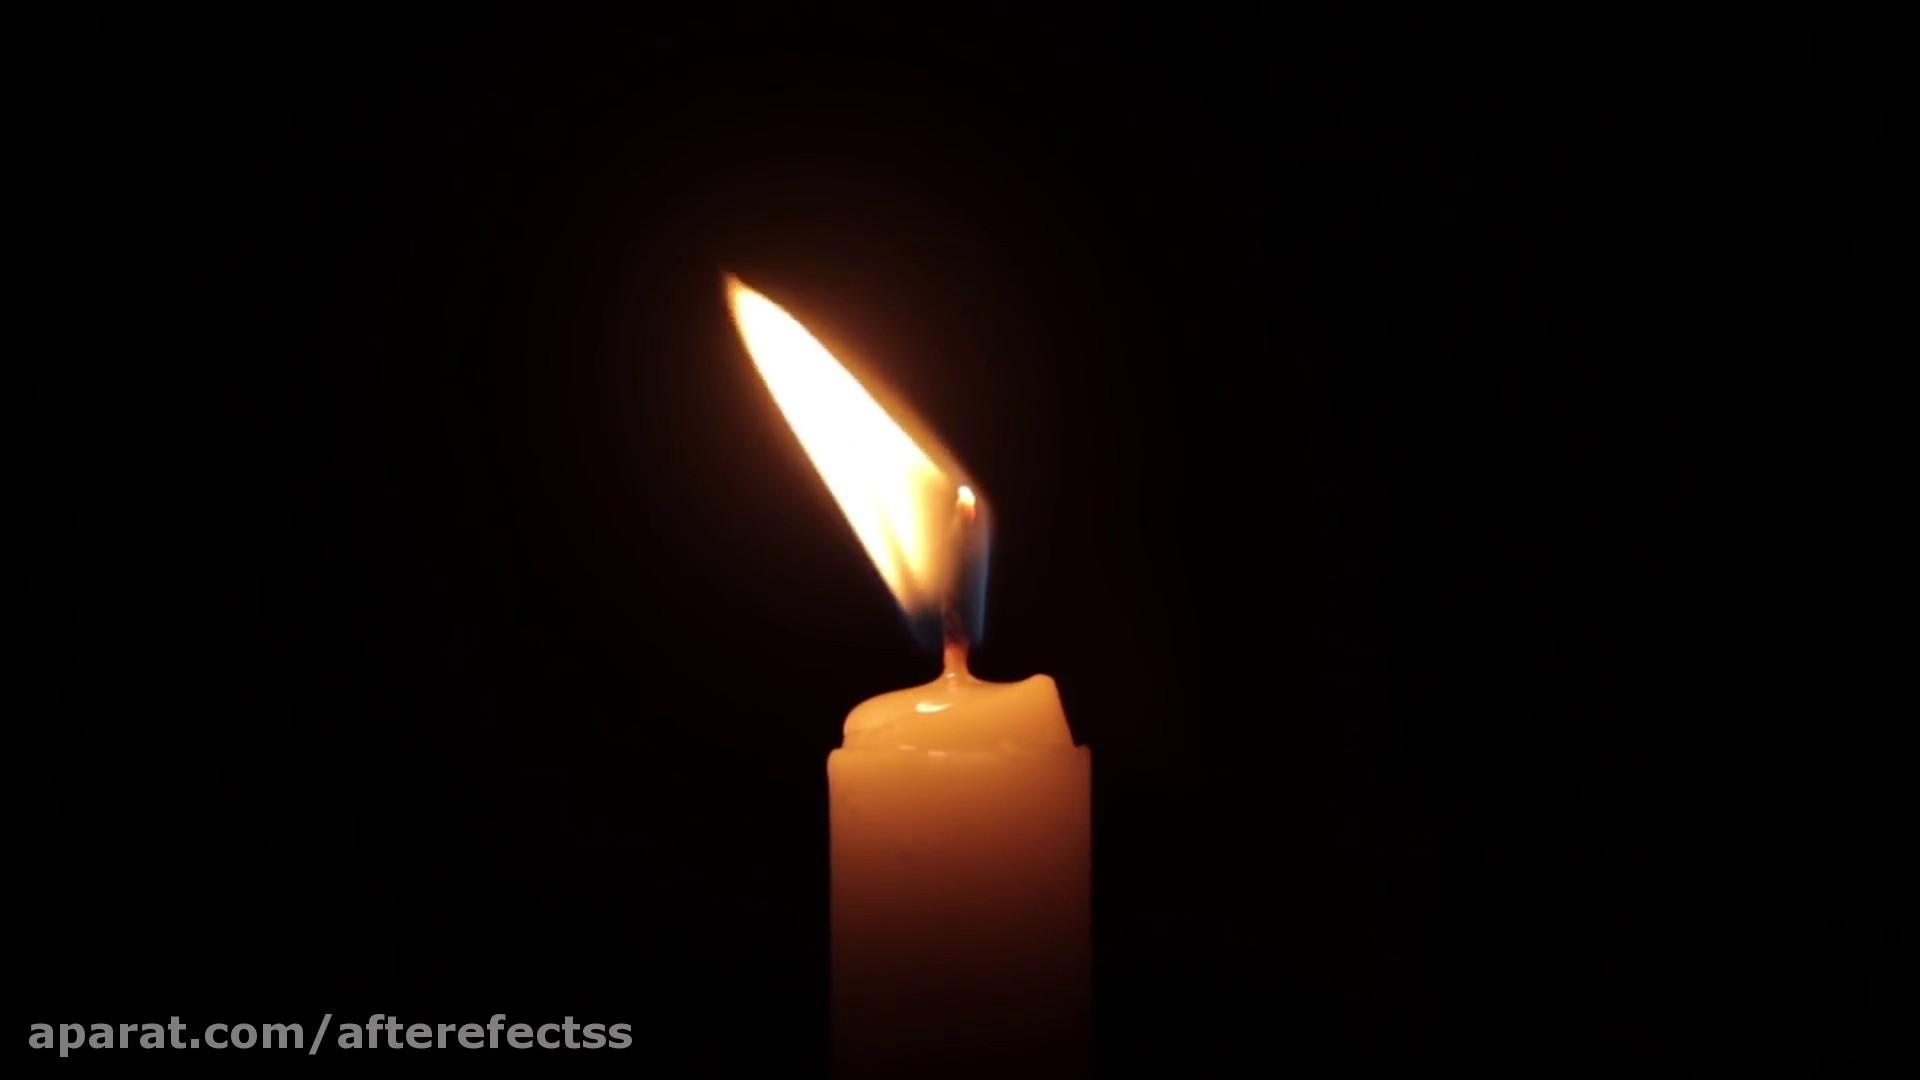fire: (709, 276, 1000, 640)
